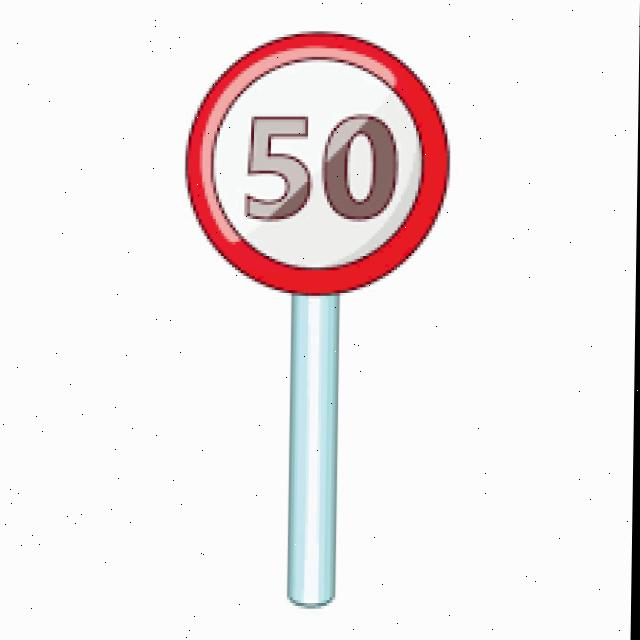Speed limit 50: (180, 27, 456, 297)
